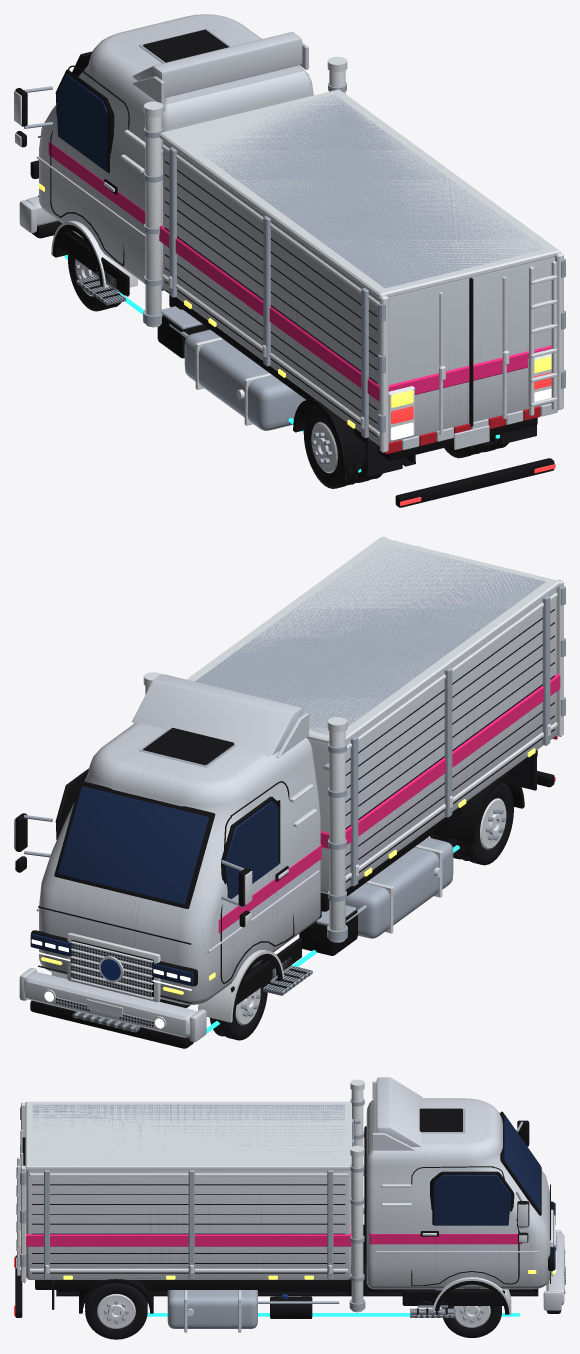
The model's file is dekotora_truck_leve_aero.glb.
3 renders of one model, top to bottom at view 1: azimuth 30°, elevation 25°; view 2: azimuth 150°, elevation 25°; view 3: azimuth 270°, elevation 25°, orthographic. The views are drawn at different scales.
Parts seen in each view (by area): view 1: truck_paint_white_panel, truck_steel, truck_chrome, truck_plastic_black, truck_paint_white, truck_paint_pink, truck_glass, wheel_r_L_1.5_1.06, truck_rubber, wheel_f_L, truck_paint_red, truck_lamp_amber (+2 smaller); view 2: truck_paint_white_panel, truck_steel, truck_chrome, truck_plastic_black, truck_glass, truck_paint_white, truck_paint_pink, wheel_r_L_1.5_1.06, truck_mesh_perf, wheel_f_L, truck_diamond, truck_lamp_white; view 3: truck_paint_white_panel, truck_chrome, truck_plastic_black, truck_steel, truck_glass, truck_paint_pink, truck_paint_white, wheel_r_R_1.5_1.06, wheel_f_R, truck_lamp_cyan, truck_diamond.
Boxes of the visible parts, x1,y1,x2,y2 form: truck_paint_white_panel: (39, 14, 554, 445); truck_steel: (24, 28, 565, 438); truck_chrome: (14, 56, 563, 452); truck_plastic_black: (15, 29, 554, 507); truck_paint_white: (19, 32, 557, 450); truck_paint_pink: (48, 141, 551, 401); truck_glass: (30, 74, 108, 173); wheel_r_L_1.5_1.06: (303, 406, 363, 488); truck_rubber: (366, 425, 536, 476); wheel_f_L: (68, 234, 124, 311); truck_paint_red: (384, 406, 540, 454); truck_lamp_amber: (38, 183, 551, 428); truck_paint_white_panel: (39, 588, 556, 1004); truck_steel: (24, 545, 565, 981); truck_chrome: (14, 536, 563, 1029); truck_plastic_black: (15, 609, 554, 1048); truck_glass: (30, 786, 278, 986); truck_paint_white: (19, 674, 319, 1041); truck_paint_pink: (218, 673, 560, 933); wheel_r_L_1.5_1.06: (454, 782, 513, 865); truck_mesh_perf: (72, 943, 151, 997); wheel_f_L: (210, 963, 267, 1040); truck_diamond: (72, 966, 312, 1032); truck_lamp_white: (31, 939, 191, 1028); truck_paint_white_panel: (26, 1098, 550, 1289); truck_chrome: (16, 1079, 565, 1332); truck_plastic_black: (15, 1108, 561, 1318); truck_steel: (20, 1098, 522, 1328); truck_glass: (434, 1115, 555, 1270); truck_paint_pink: (26, 1224, 522, 1246); truck_paint_white: (23, 1077, 565, 1310); wheel_r_R_1.5_1.06: (85, 1283, 147, 1339); wheel_f_R: (442, 1288, 501, 1337); truck_lamp_cyan: (147, 1313, 520, 1316); truck_diamond: (410, 1267, 565, 1317).
Size of the model in its own units: 3.28 by 3.8 by 9.16.
17 materials, 4 textured.
